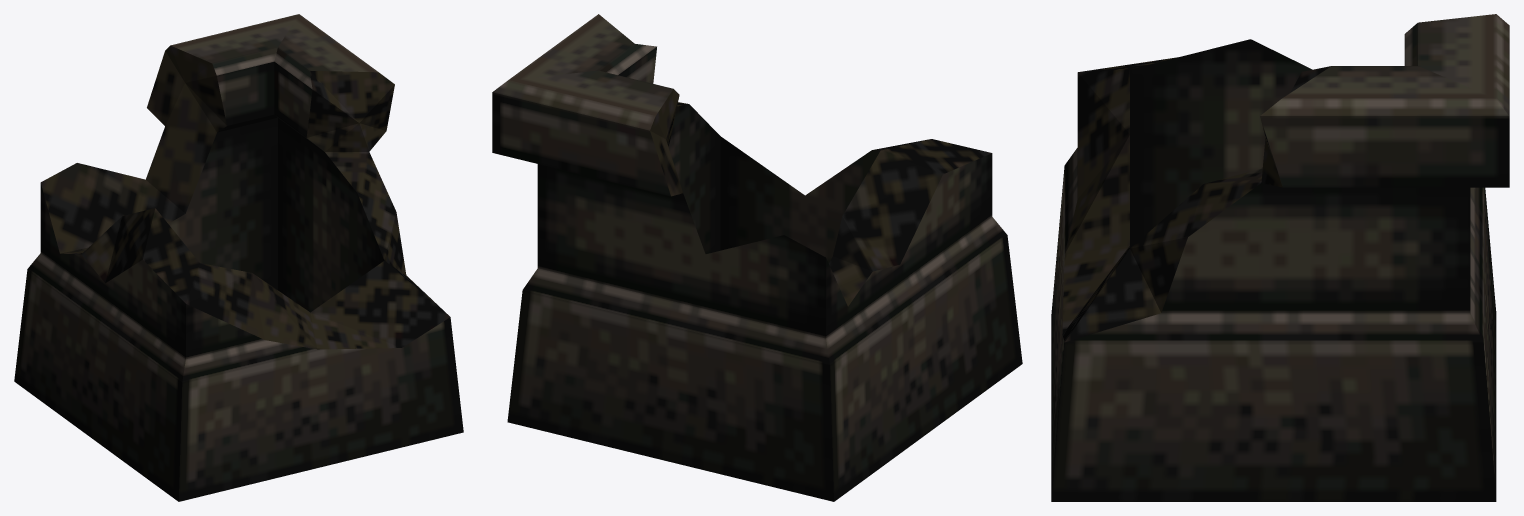
Rendered from EnvMdrMD_Atl_A_Chimney_B.FBX.
3 views of the same model, side by side, from view 1: azimuth 30°, elevation 25°; view 2: azimuth 150°, elevation 25°; view 3: azimuth 270°, elevation 25° (orthographic). The views are drawn at different scales.
Parts seen in each view (by area): view 1: EnvMdrMD_Atl_A_Chimney_B; view 2: EnvMdrMD_Atl_A_Chimney_B; view 3: EnvMdrMD_Atl_A_Chimney_B.
Part boxes in pixels (<box>): EnvMdrMD_Atl_A_Chimney_B: <box>14,14,463,501</box>; EnvMdrMD_Atl_A_Chimney_B: <box>492,14,1022,501</box>; EnvMdrMD_Atl_A_Chimney_B: <box>1051,14,1509,501</box>.
Size of the model in its own units: 175 by 170 by 175.
